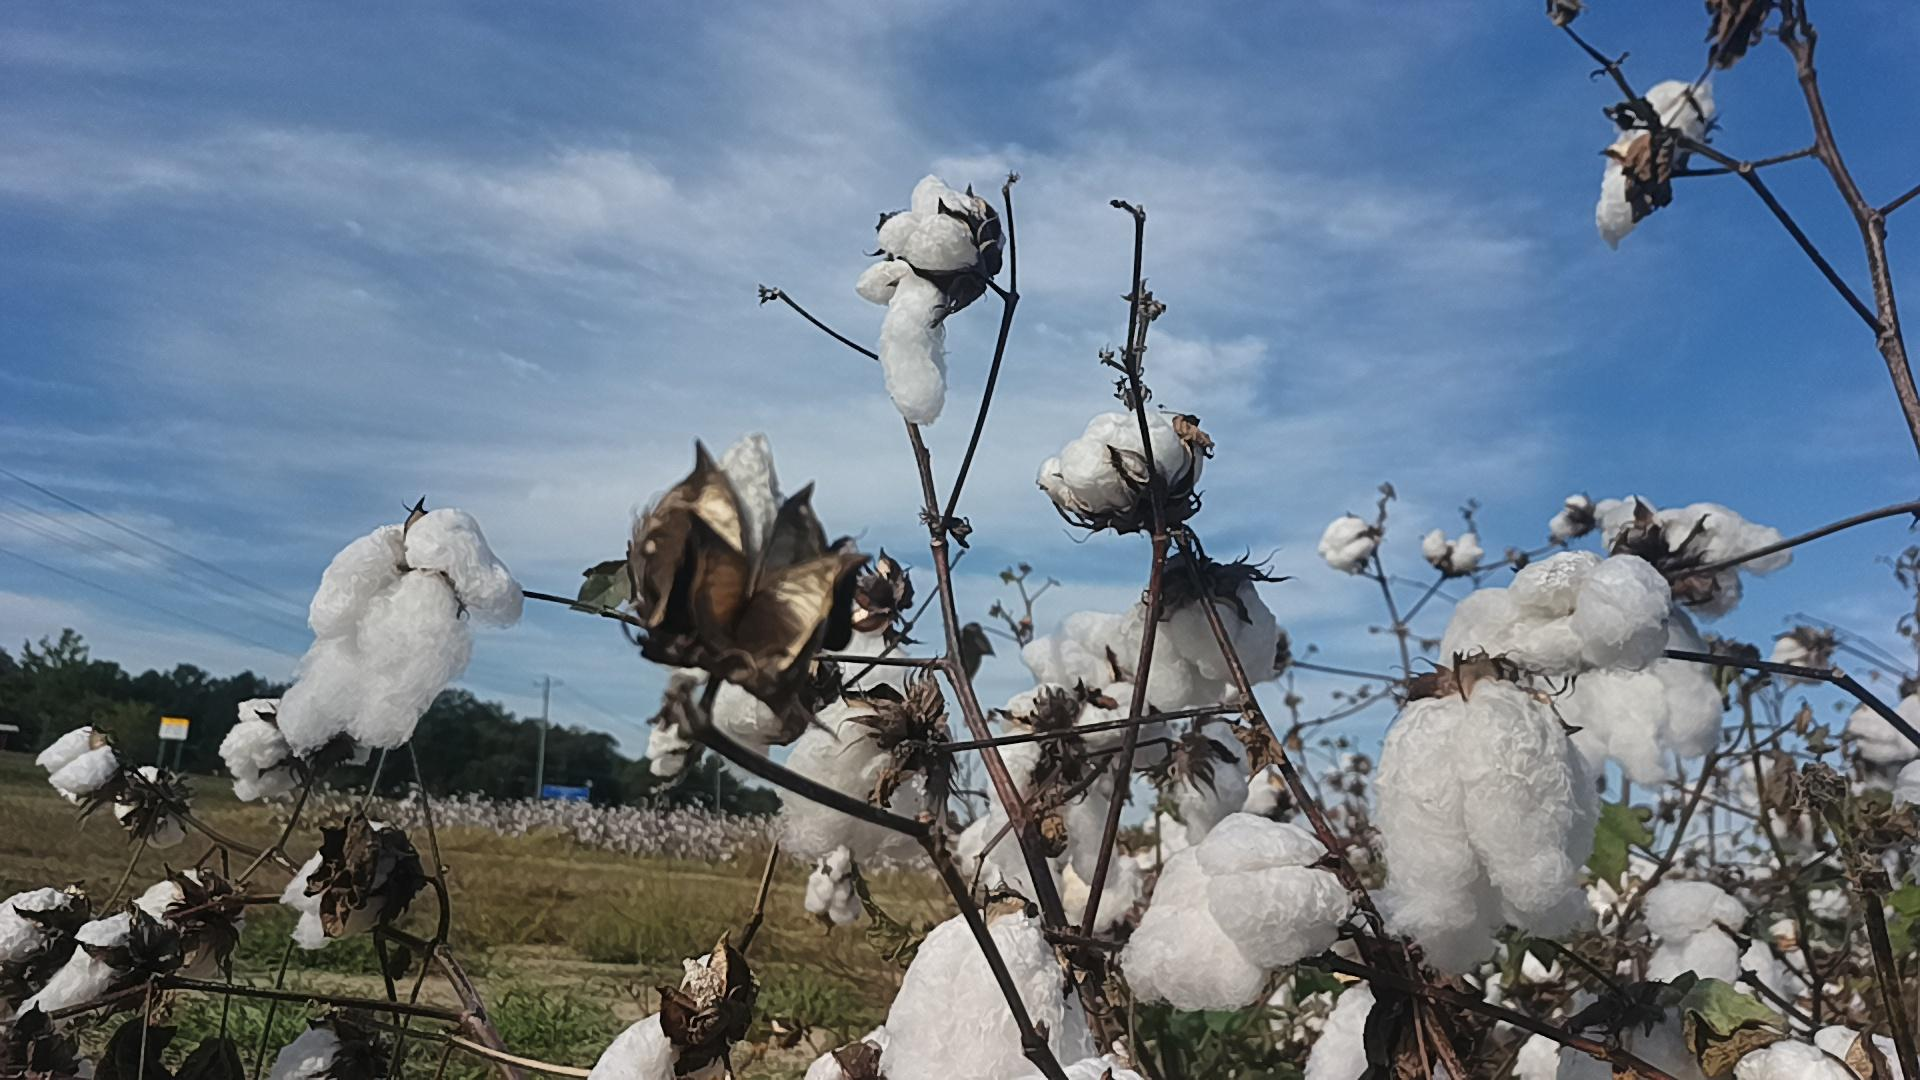cotton_ready: (1373, 678, 1598, 981), (281, 505, 530, 756), (1118, 814, 1350, 1013), (641, 423, 825, 636), (878, 909, 1101, 1080), (856, 170, 1004, 423), (985, 682, 1147, 911), (1536, 616, 1727, 786), (770, 690, 953, 861), (1437, 553, 1669, 669), (1592, 492, 1800, 621), (1127, 566, 1288, 716), (584, 953, 753, 1080), (1598, 82, 1716, 256), (1038, 405, 1200, 525), (644, 669, 783, 786), (284, 815, 401, 953), (18, 909, 150, 1029), (137, 862, 247, 977), (1556, 1001, 1712, 1080), (1163, 720, 1255, 847), (1643, 881, 1751, 985), (1303, 975, 1403, 1077), (222, 695, 307, 806), (1021, 609, 1135, 688), (824, 597, 915, 696), (260, 1014, 376, 1080), (40, 727, 120, 808), (115, 766, 189, 848), (0, 885, 79, 960), (808, 843, 866, 934), (1727, 1040, 1859, 1080), (800, 1025, 889, 1080), (1813, 1025, 1902, 1080), (1850, 694, 1920, 760), (1767, 630, 1828, 686), (1018, 1056, 1151, 1080), (1319, 516, 1374, 571), (1423, 529, 1485, 572), (1549, 493, 1590, 541), (1892, 756, 1920, 811)
